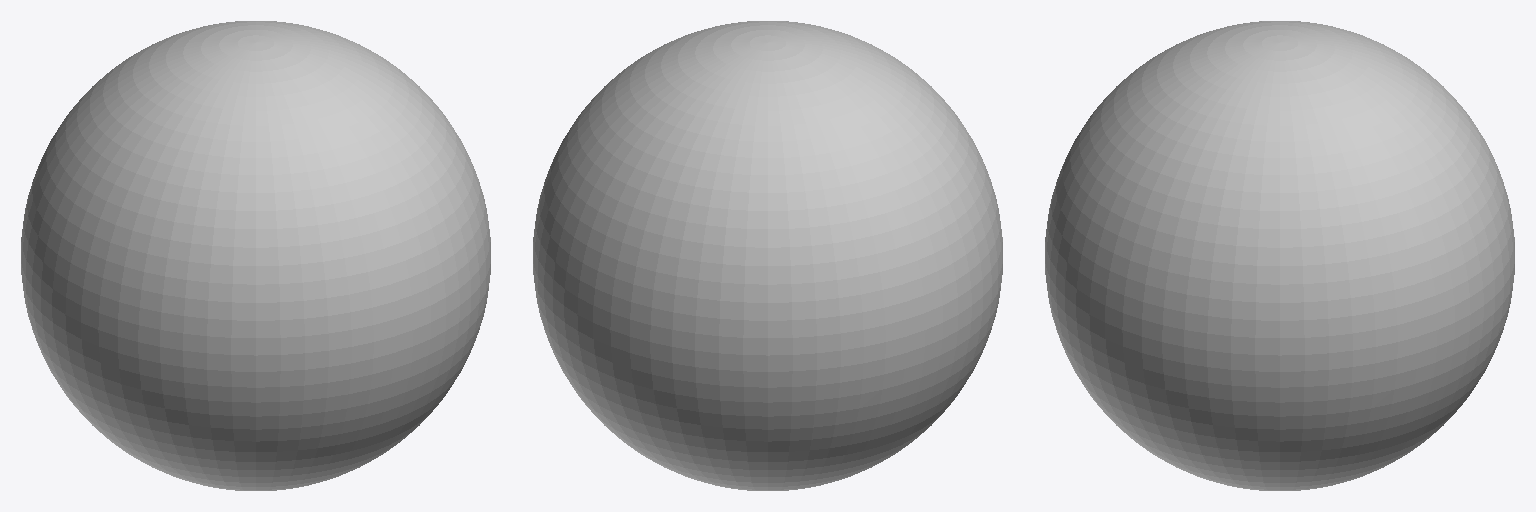
File: moon.obj
The picture shows the model from 3 angles: view 1: azimuth 30°, elevation 25°; view 2: azimuth 150°, elevation 25°; view 3: azimuth 270°, elevation 25°; orthographic projection.
Visible parts, largest first — view 1: Sphere; view 2: Sphere; view 3: Sphere.
Boxes of the visible parts, x1,y1,x2,y2 form: Sphere: [21, 21, 490, 490]; Sphere: [533, 21, 1002, 490]; Sphere: [1045, 21, 1514, 490].
Bounding box in the file's own units: 2 × 2 × 2.